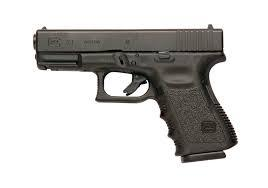gun: (24, 17, 242, 162)
